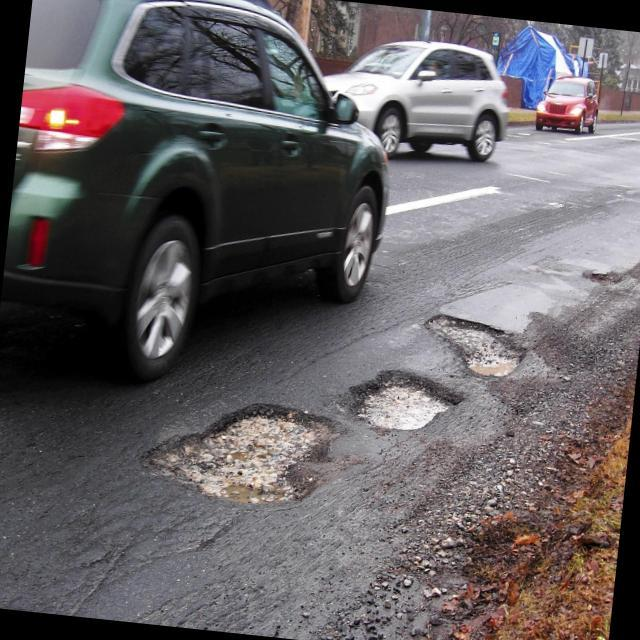Pothole: (145, 367, 387, 549), (340, 352, 482, 456)
